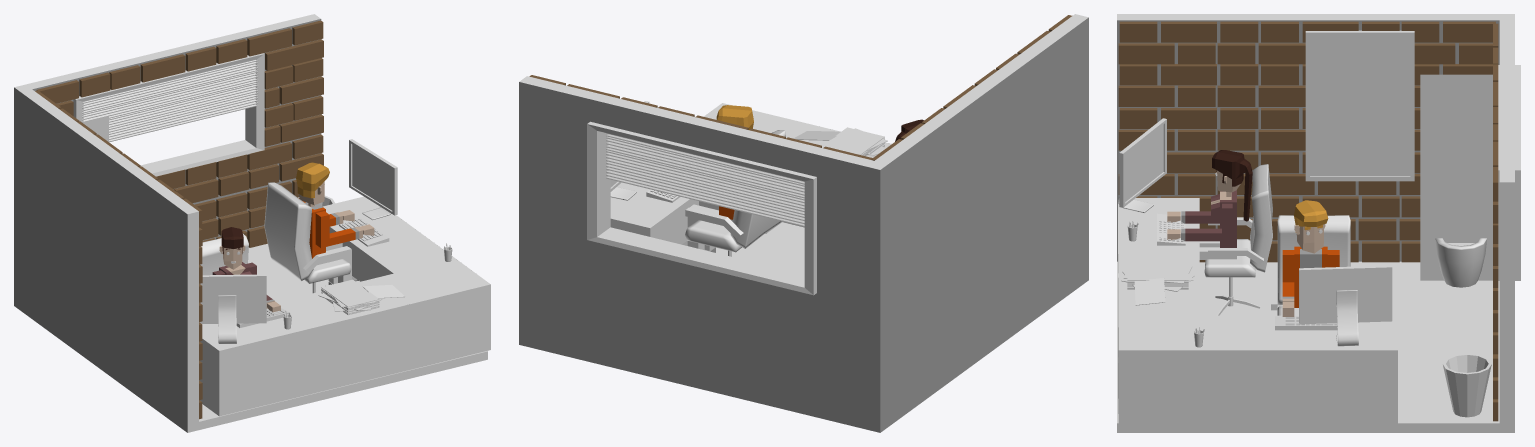
The model's file is Asset  room4.fbx.
The picture shows the model from 3 angles, left to right: view 1: azimuth 30°, elevation 25°; view 2: azimuth 150°, elevation 25°; view 3: azimuth 270°, elevation 25°; orthographic projection. The views are drawn at different scales.
Parts seen in each view (by area): view 1: Cube.064, Plane.058, Cube.062, Plane.051, Circle.058, Cube.060, Plane.054, Cube.008, Plane.057, Cube.063, Plane.060, Cube.061 (+2 smaller); view 2: Cube.064, Cube.060, Plane.051, Plane.058, Circle.058, Cube.008, Plane.060, Cube.062, Cube.063; view 3: Cube.063, Plane.058, Cube.064, Plane.052, Plane.050, Plane.057, Cube.061, Circle.053, Cube.008, Plane.054, Circle.048, Cube.062 (+8 smaller).
Boxes of the visible parts, left/top/right/bottom form: Cube.064: left=14, top=14, right=487, bottom=432; Plane.058: left=199, top=196, right=490, bottom=416; Cube.062: left=36, top=20, right=323, bottom=247; Plane.051: left=82, top=60, right=258, bottom=142; Circle.058: left=264, top=182, right=351, bottom=293; Cube.060: left=73, top=53, right=264, bottom=176; Plane.054: left=199, top=274, right=266, bottom=343; Cube.008: left=296, top=162, right=374, bottom=284; Plane.057: left=349, top=139, right=397, bottom=220; Cube.063: left=35, top=90, right=202, bottom=419; Plane.060: left=318, top=279, right=382, bottom=315; Cube.061: left=212, top=227, right=280, bottom=312; Cube.064: left=519, top=14, right=1088, bottom=432; Cube.060: left=587, top=121, right=816, bottom=295; Plane.051: left=606, top=133, right=804, bottom=226; Plane.058: left=610, top=103, right=891, bottom=244; Circle.058: left=685, top=130, right=785, bottom=256; Cube.008: left=661, top=105, right=753, bottom=252; Plane.060: left=820, top=127, right=887, bottom=155; Cube.062: left=529, top=75, right=872, bottom=159; Cube.063: left=871, top=15, right=1072, bottom=160; Cube.063: left=1118, top=21, right=1495, bottom=262; Plane.058: left=1118, top=198, right=1397, bottom=425; Cube.064: left=1117, top=14, right=1514, bottom=432; Plane.052: left=1305, top=30, right=1414, bottom=181; Plane.050: left=1420, top=74, right=1492, bottom=280; Plane.057: left=1299, top=265, right=1392, bottom=346; Cube.061: left=1167, top=150, right=1252, bottom=259; Circle.053: left=1204, top=164, right=1272, bottom=315; Cube.008: left=1282, top=200, right=1339, bottom=316; Plane.054: left=1118, top=118, right=1166, bottom=212; Circle.048: left=1442, top=353, right=1491, bottom=417; Cube.062: left=1493, top=23, right=1498, bottom=421.
Bounding box in the file's own units: 309 × 212 × 310.
